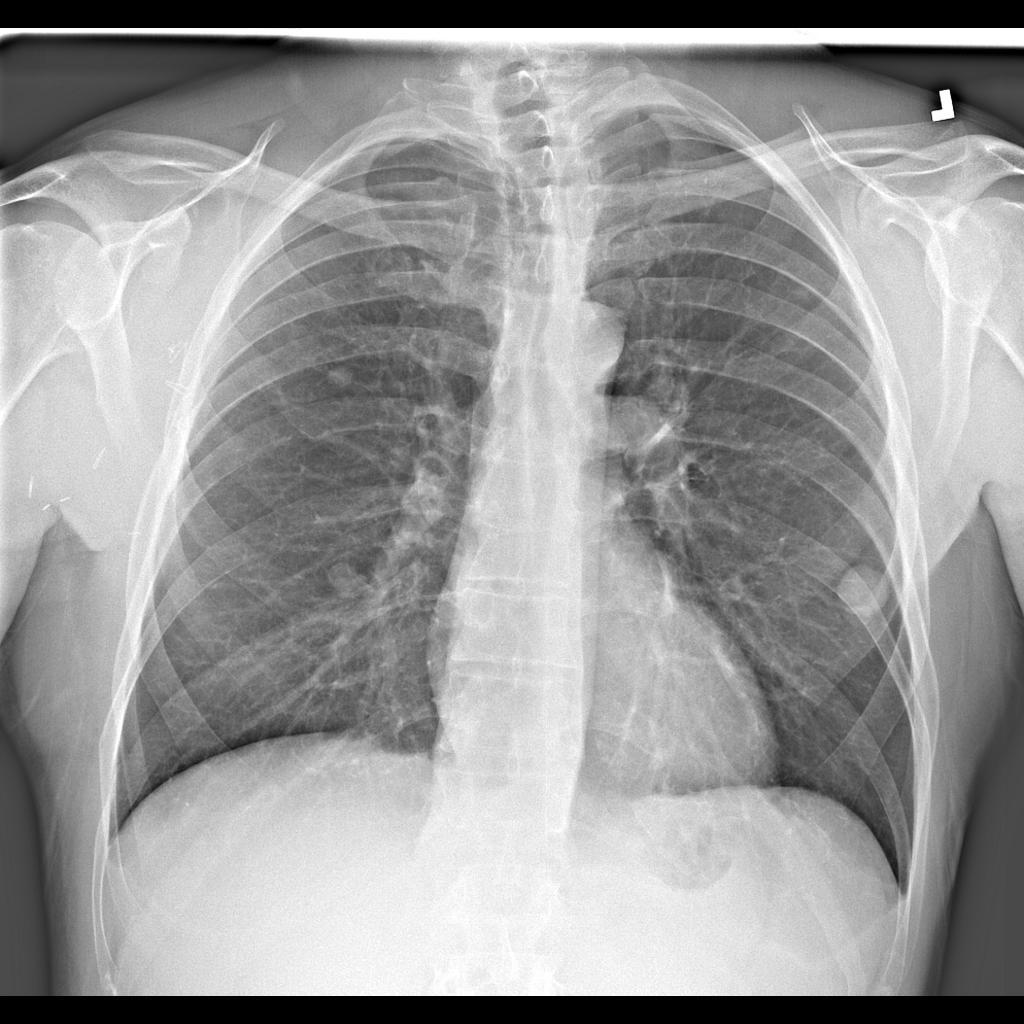Nodule: (830, 557, 897, 635), (319, 356, 366, 401), (326, 557, 369, 601)
